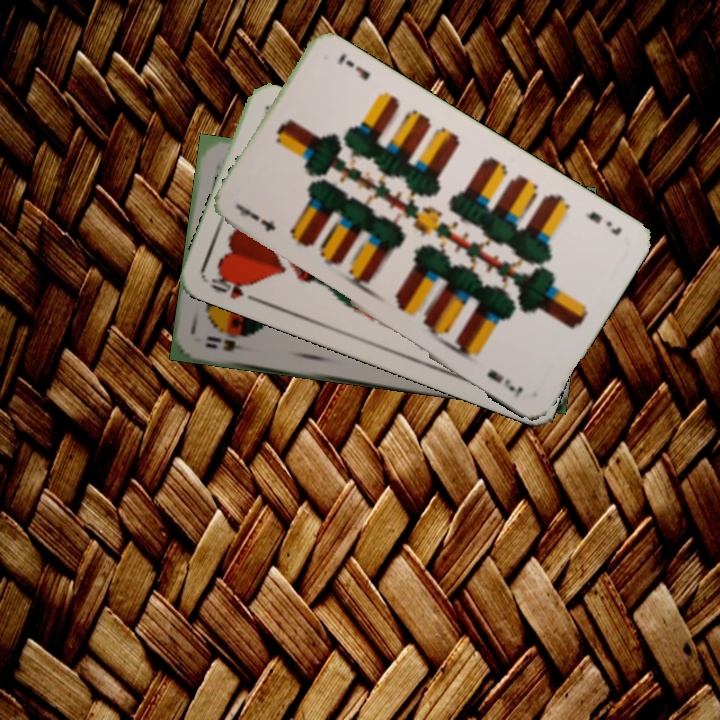E7: (234, 202, 277, 235), (581, 207, 624, 238)
HO: (205, 269, 260, 304)
SO: (201, 332, 255, 354)
